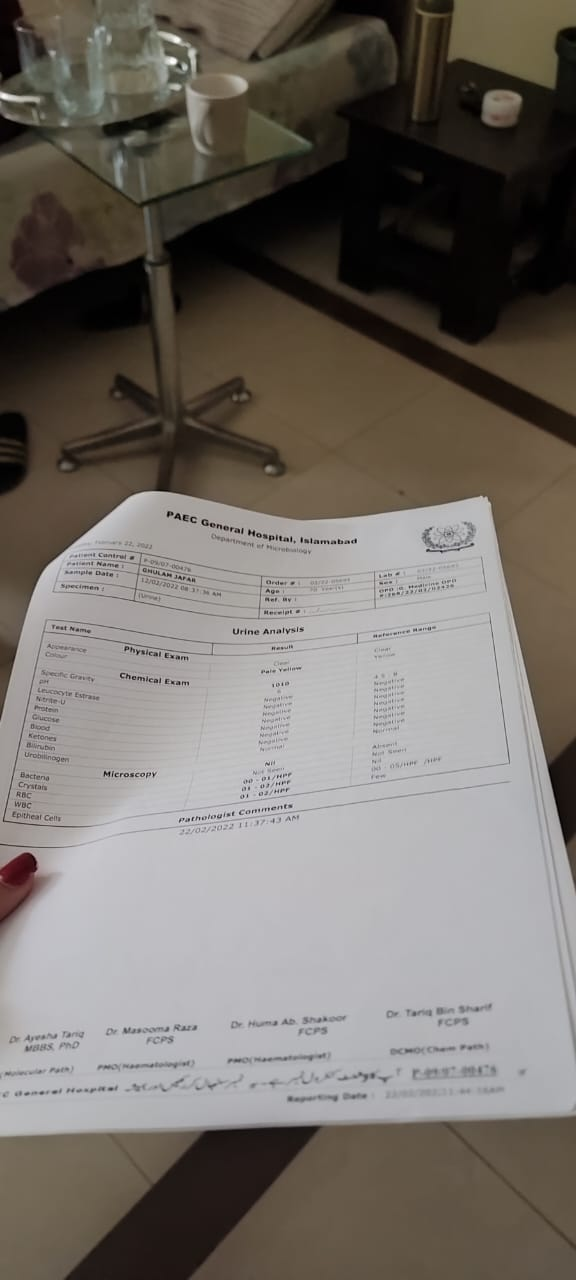report: (7, 617, 525, 810)
